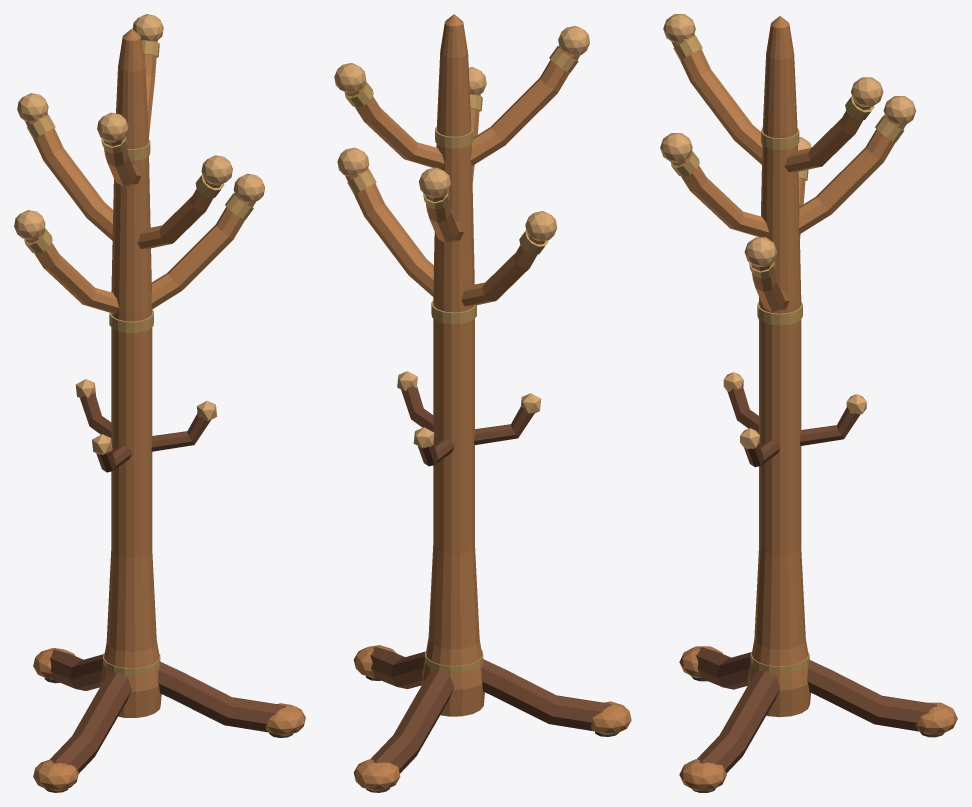
The model's file is 010_branching_coat_stand_v01.glb.
3 views of the same model, side by side, from view 1: azimuth 30°, elevation 25°; view 2: azimuth 150°, elevation 25°; view 3: azimuth 270°, elevation 25° (orthographic).
Parts seen in each view (by area): view 1: Turned central trunk, Swept tripod foot 0, Swept tripod foot 1, Curved coat branch 00, Curved coat branch 04, Curved coat branch 03, Curved coat branch 01, Swept tripod foot 2, Rounded foot toe.001, Curved coat branch 02, Lower bag hook 00, Rounded foot toe (+11 smaller); view 2: Turned central trunk, Swept tripod foot 1, Swept tripod foot 2, Curved coat branch 02, Curved coat branch 00, Curved coat branch 05, Curved coat branch 03, Swept tripod foot 0, Rounded foot toe.002, Curved coat branch 04, Lower bag hook 01, Rounded foot toe.001 (+9 smaller); view 3: Turned central trunk, Swept tripod foot 2, Swept tripod foot 0, Curved coat branch 04, Curved coat branch 02, Curved coat branch 01, Curved coat branch 05, Swept tripod foot 1, Rounded foot toe, Lower bag hook 02, Curved coat branch 00, Rounded foot toe.002 (+9 smaller).
Boxes of the visible parts, x1,y1,x2,y2 form: Turned central trunk: (100, 29, 161, 717); Swept tripod foot 0: (158, 661, 285, 732); Swept tripod foot 1: (49, 672, 131, 773); Curved coat branch 00: (151, 193, 255, 309); Curved coat branch 04: (25, 113, 113, 240); Curved coat branch 03: (25, 233, 118, 313); Curved coat branch 01: (137, 177, 220, 249); Swept tripod foot 2: (50, 649, 103, 690); Rounded foot toe.001: (33, 760, 78, 791); Curved coat branch 02: (103, 136, 141, 186); Lower bag hook 00: (151, 413, 210, 451); Rounded foot toe: (265, 703, 305, 735); Turned central trunk: (422, 14, 484, 716); Swept tripod foot 1: (481, 659, 611, 731); Swept tripod foot 2: (370, 670, 454, 773); Curved coat branch 02: (470, 46, 580, 165); Curved coat branch 00: (345, 168, 433, 296); Curved coat branch 05: (346, 85, 444, 169); Curved coat branch 03: (461, 235, 545, 306); Swept tripod foot 0: (370, 647, 425, 689); Rounded foot toe.002: (353, 759, 400, 791); Curved coat branch 04: (425, 192, 463, 243); Lower bag hook 01: (474, 406, 534, 444); Rounded foot toe.001: (591, 701, 631, 734); Turned central trunk: (748, 16, 810, 717); Swept tripod foot 2: (807, 660, 936, 731); Swept tripod foot 0: (697, 670, 779, 773); Curved coat branch 04: (798, 115, 905, 234); Curved coat branch 02: (671, 34, 762, 164); Curved coat branch 01: (672, 155, 769, 237); Curved coat branch 05: (784, 101, 870, 172); Swept tripod foot 1: (696, 647, 751, 689); Rounded foot toe: (679, 759, 726, 790); Lower bag hook 02: (800, 406, 860, 445); Curved coat branch 00: (751, 262, 789, 312); Rounded foot toe.002: (915, 702, 957, 734).
Size of the model in its own units: 0.6669 by 1.69 by 0.6366.
